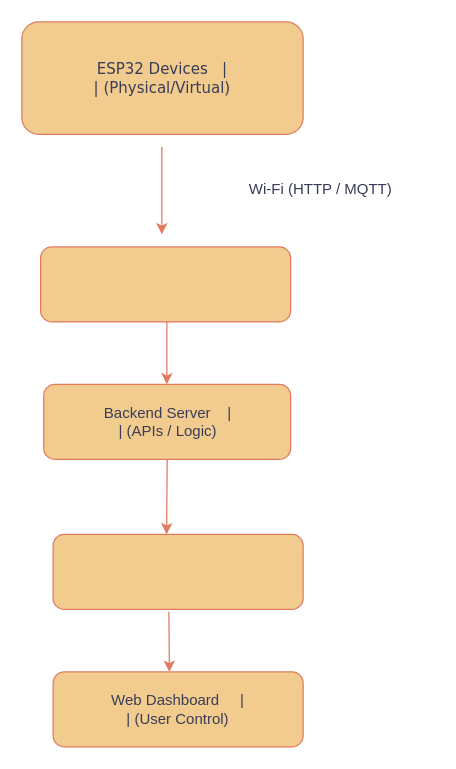
This 456x769 diagram has some shape labels left out. The shapes that lost their labels are listed below. From the top down, each one's centre as x and y in pixels, then its label:
At pixel 165 284: "Communication | | Layer".
At pixel 177 571: "Database | | (Device State, | | Logs, Users)".
